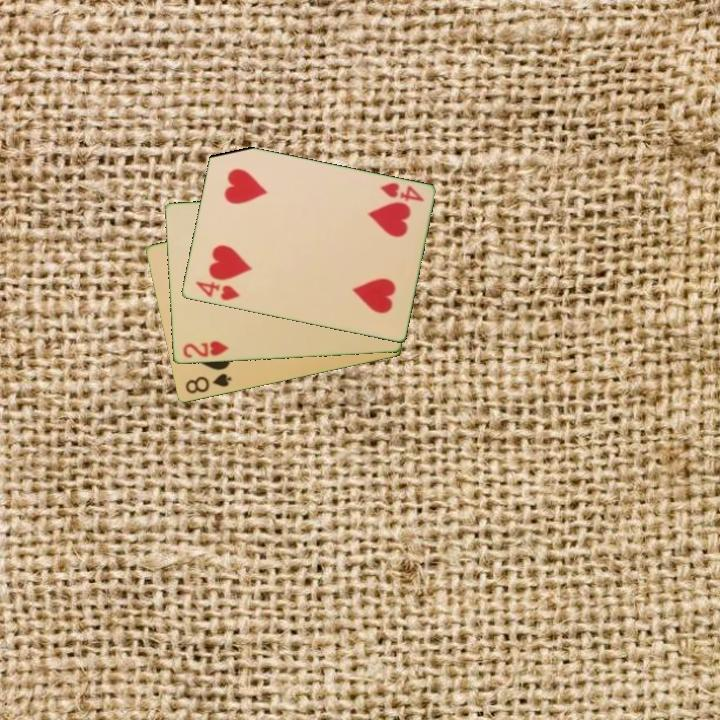2h: (179, 338, 231, 361)
4h: (192, 278, 242, 304), (377, 179, 427, 205)
8s: (182, 370, 234, 397)
